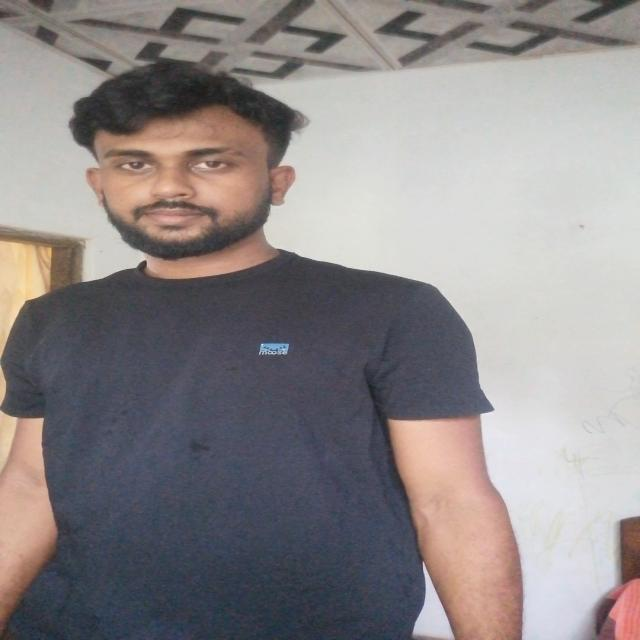Person: (28, 73, 553, 632)
